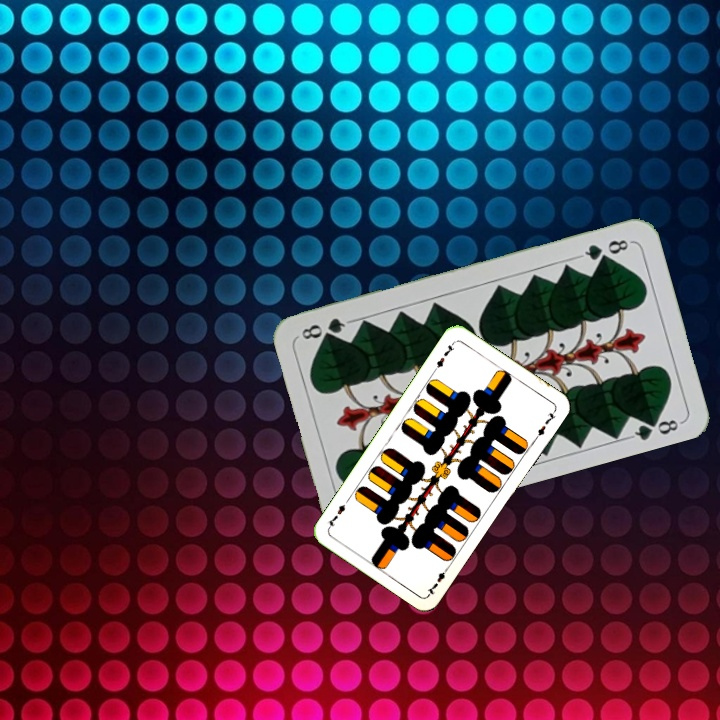E7: (423, 562, 452, 597), (430, 338, 457, 374)
G8: (576, 235, 634, 263)
